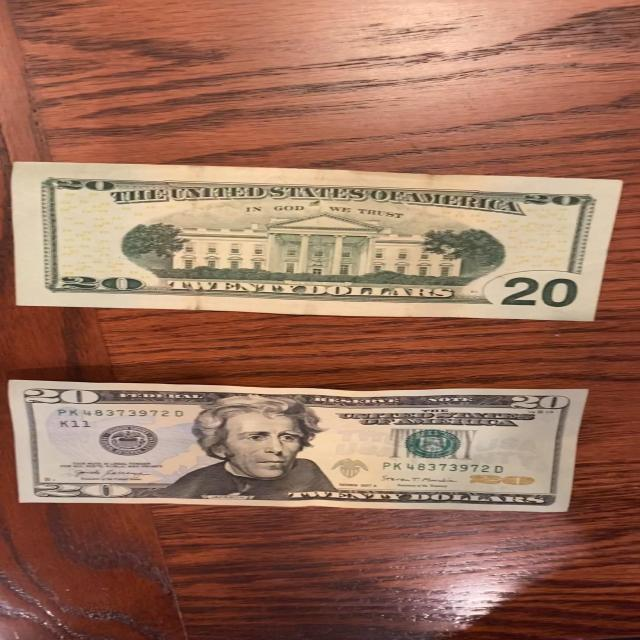20-Back: (14, 160, 635, 326)
20-Front: (10, 366, 603, 524)
